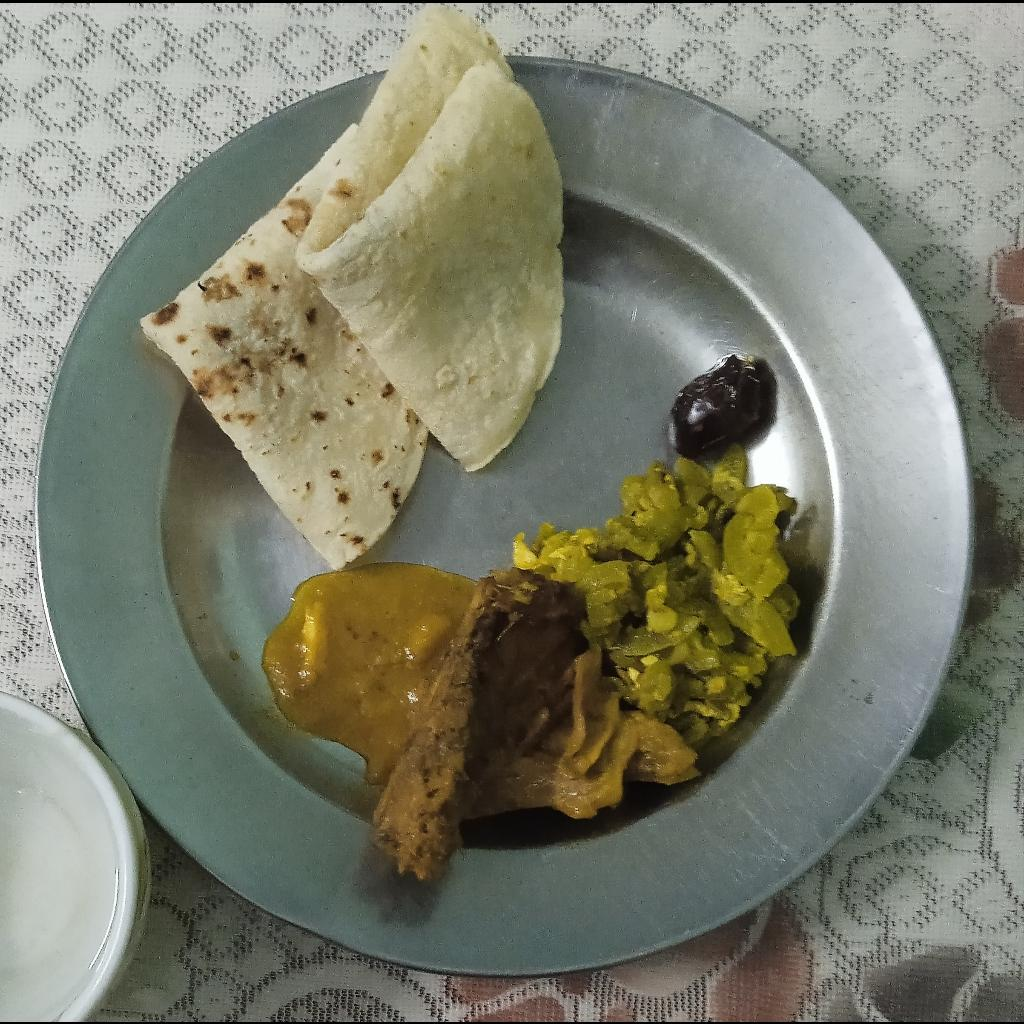chicken: (372, 567, 707, 883)
dates: (669, 351, 766, 454)
dundol: (514, 441, 802, 747)
ruti: (137, 2, 566, 574)
